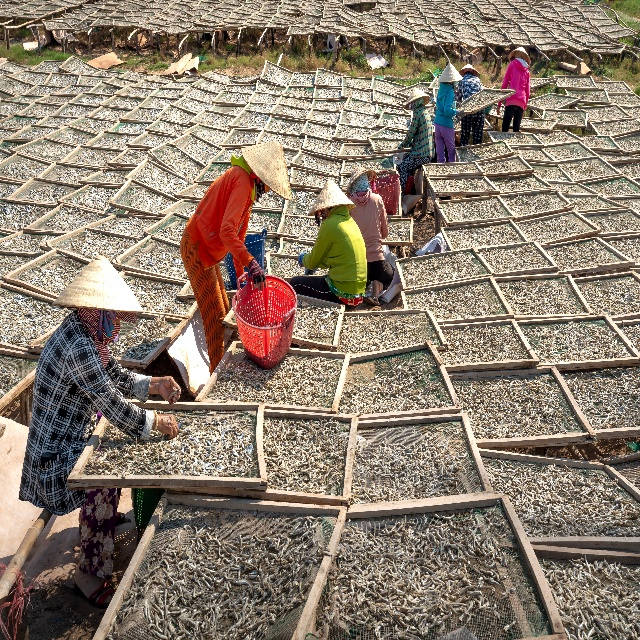Guantes: (249, 259, 266, 290), (298, 251, 306, 266), (458, 109, 464, 119), (456, 99, 461, 109), (398, 141, 403, 149)
Sin_guantes: (159, 374, 182, 402), (156, 414, 179, 441), (496, 105, 501, 116)
